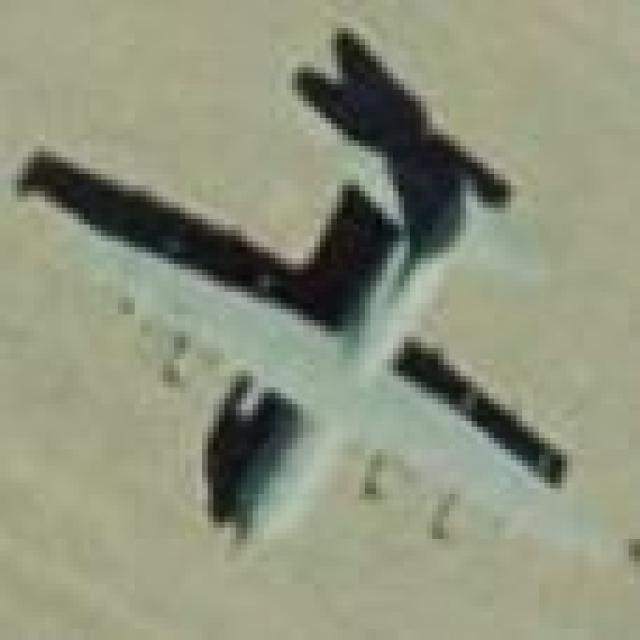C-130_TopDown: (10, 21, 582, 565)
